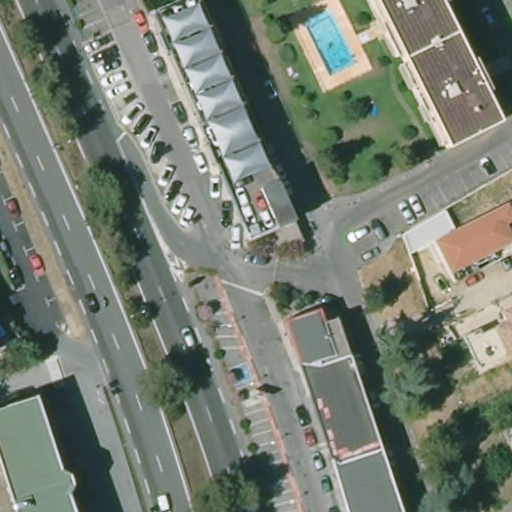pool: (300, 8, 361, 79)
